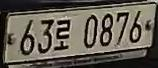0: (82, 11, 99, 51)
3: (37, 17, 54, 54)
6: (17, 18, 36, 57), (129, 10, 144, 45)
7: (115, 10, 129, 46)
8: (100, 12, 115, 47)
로: (55, 17, 72, 53)
